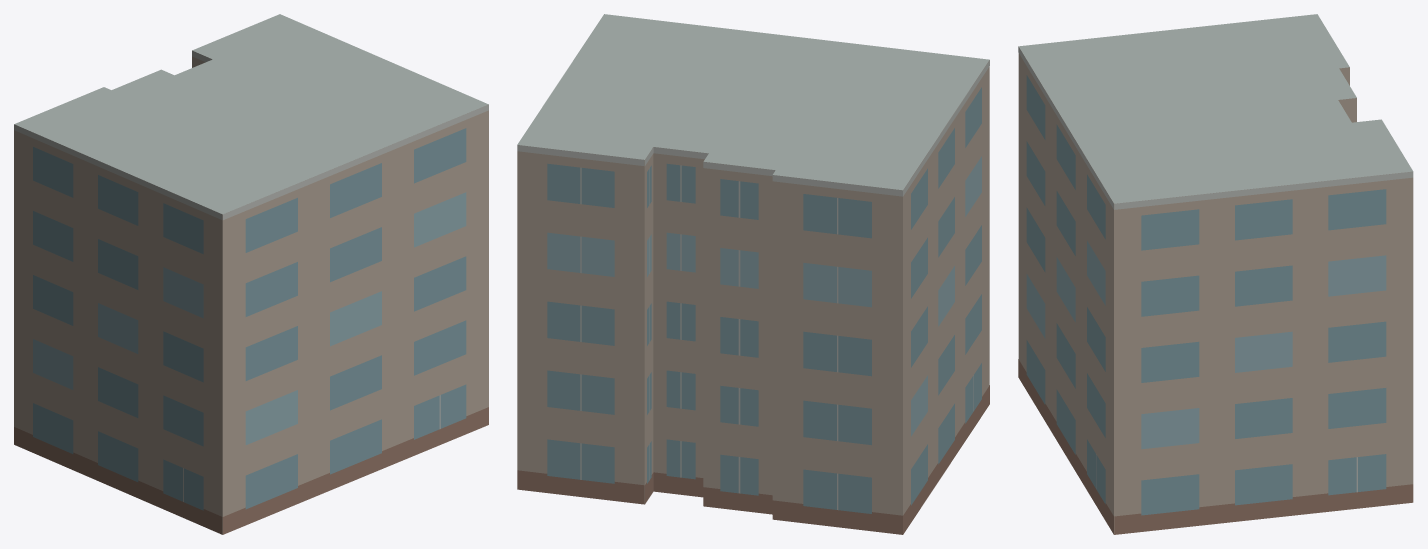
File: survey-upis-32692024.glb
3 views of the same model, side by side, from view 1: azimuth 30°, elevation 25°; view 2: azimuth 150°, elevation 25°; view 3: azimuth 270°, elevation 25° (orthographic). The views are drawn at different scales.
Visible parts, largest first — view 1: survey-upis-32692024.tmp; view 2: survey-upis-32692024.tmp; view 3: survey-upis-32692024.tmp.
Part boxes in pixels (left/top/right/bottom): survey-upis-32692024.tmp: left=14, top=14, right=488, bottom=534; survey-upis-32692024.tmp: left=517, top=14, right=989, bottom=534; survey-upis-32692024.tmp: left=1018, top=14, right=1413, bottom=534.
Size of the model in its own units: 16.23 by 13.2 by 14.28.
